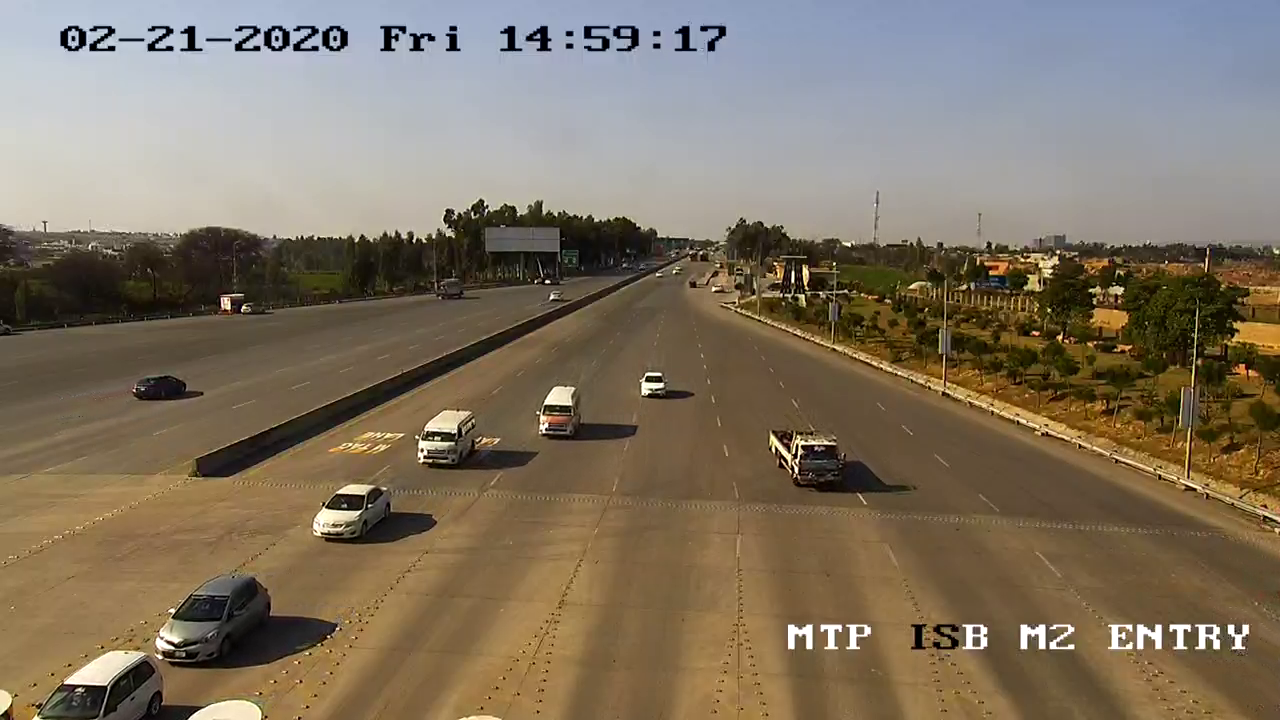f1: (140, 564, 279, 671), (299, 474, 397, 552), (634, 360, 674, 406)
f2: (757, 414, 854, 504)
f3: (403, 401, 486, 475), (528, 380, 592, 443)
